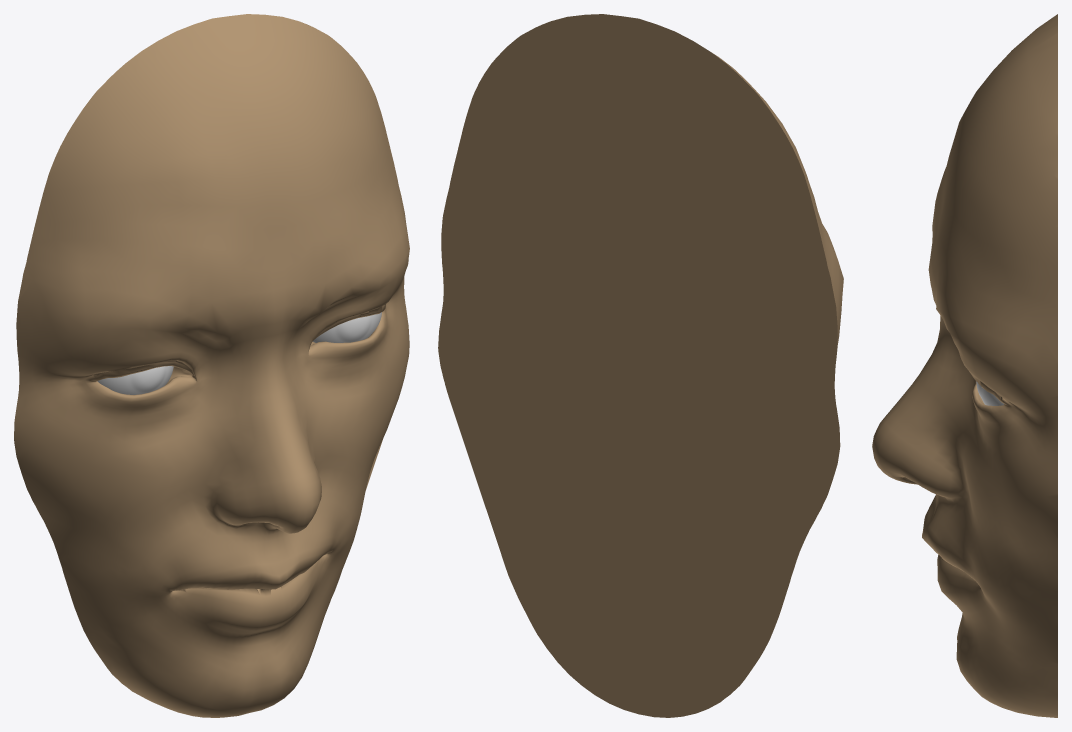
File: head301.fbx
The picture shows the model from 3 angles, left to right: view 1: azimuth 30°, elevation 25°; view 2: azimuth 150°, elevation 25°; view 3: azimuth 270°, elevation 25°; orthographic projection. The views are drawn at different scales.
Parts seen in each view (by area): view 1: HG_Body.001, HG_Eyes.003; view 2: HG_Body.001; view 3: HG_Body.001.
Part boxes in pixels (x1,y1,x2,y2): HG_Body.001: [14, 14, 409, 717]; HG_Eyes.003: [97, 312, 381, 394]; HG_Body.001: [438, 14, 843, 717]; HG_Body.001: [872, 14, 1057, 717].
Size of the model in its own units: 13.62 by 22.53 by 5.64.
